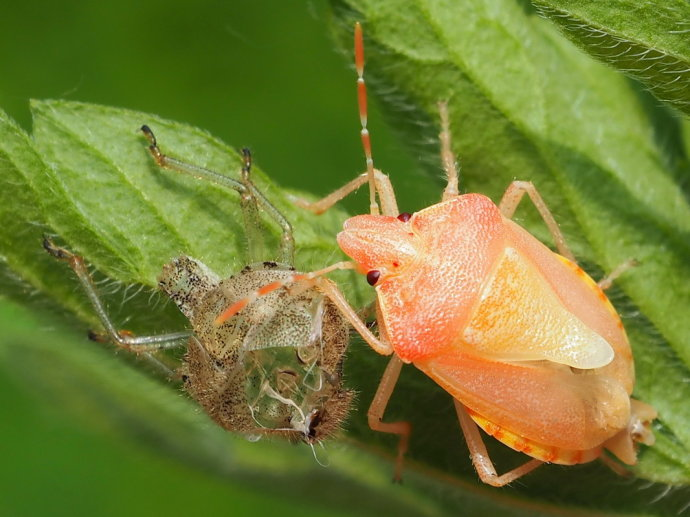chunchong: (344, 190, 641, 473)
